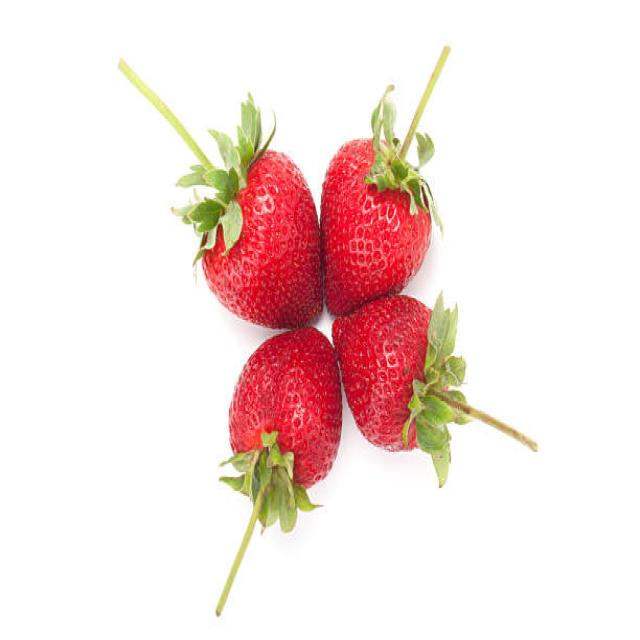Healthy Fruit: (200, 150, 323, 324), (321, 139, 432, 318), (229, 325, 343, 491), (331, 292, 433, 450)
